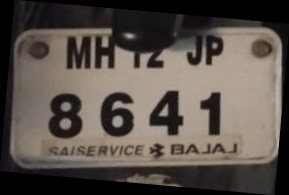character: (148, 87, 184, 137), (47, 91, 83, 139), (99, 91, 134, 137), (199, 90, 222, 136), (65, 35, 92, 70), (93, 33, 114, 70), (205, 32, 224, 66), (186, 33, 203, 66)
